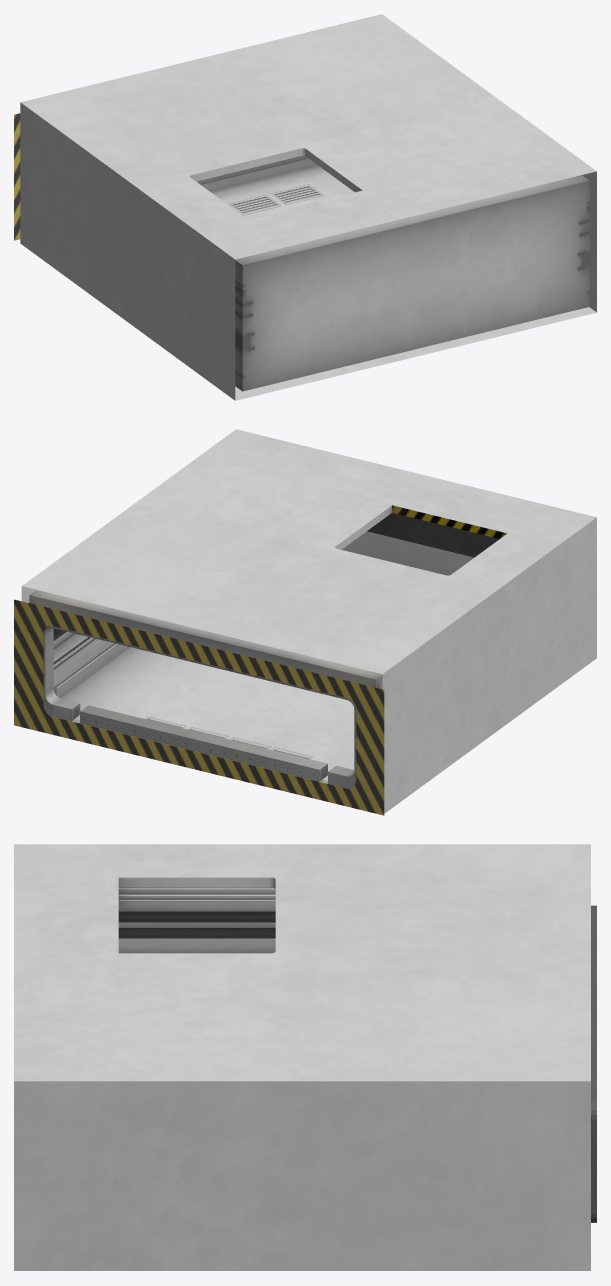
Rendered from ME1MilieuCage.fbx.
The picture shows the model from 3 angles, top to bottom: view 1: azimuth 30°, elevation 25°; view 2: azimuth 150°, elevation 25°; view 3: azimuth 270°, elevation 25°; orthographic projection. The views are drawn at different scales.
Visible parts, largest first — view 1: ShapeIndexedFaceSet; view 2: ShapeIndexedFaceSet; view 3: ShapeIndexedFaceSet.
Part boxes in pixels (x1,y1,x2,y2): ShapeIndexedFaceSet: [14, 14, 596, 400]; ShapeIndexedFaceSet: [14, 429, 596, 815]; ShapeIndexedFaceSet: [14, 844, 596, 1270].
Size of the model in its own units: 7.7 by 2.8 by 7.8.
